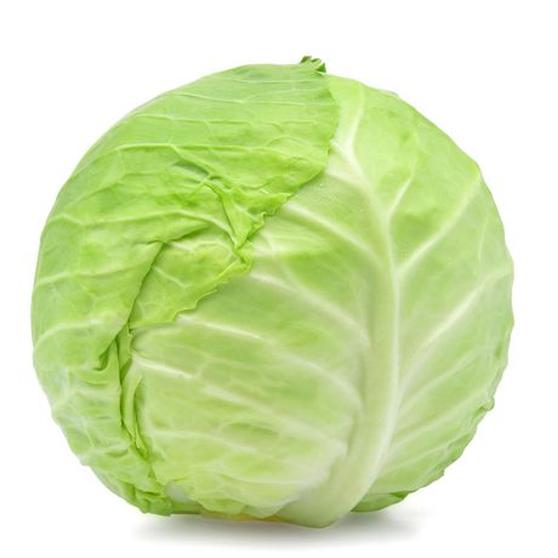cabbage: (22, 59, 521, 528)
